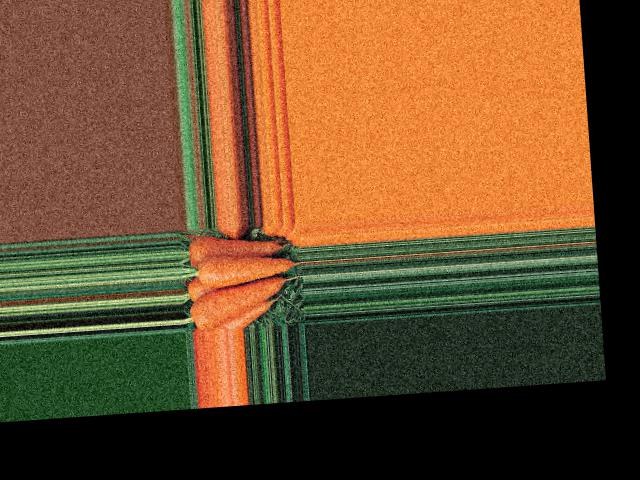carrot: (189, 274, 291, 327)
